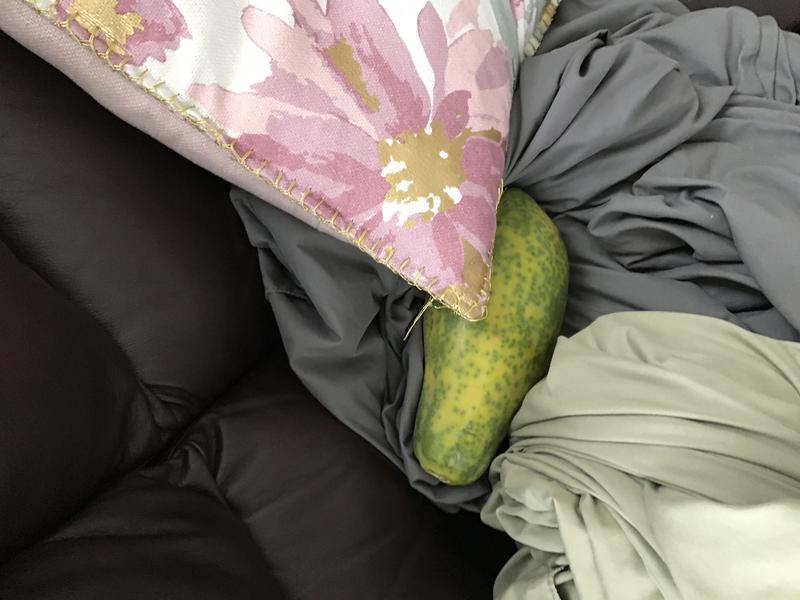papaya: (411, 165, 573, 492)
